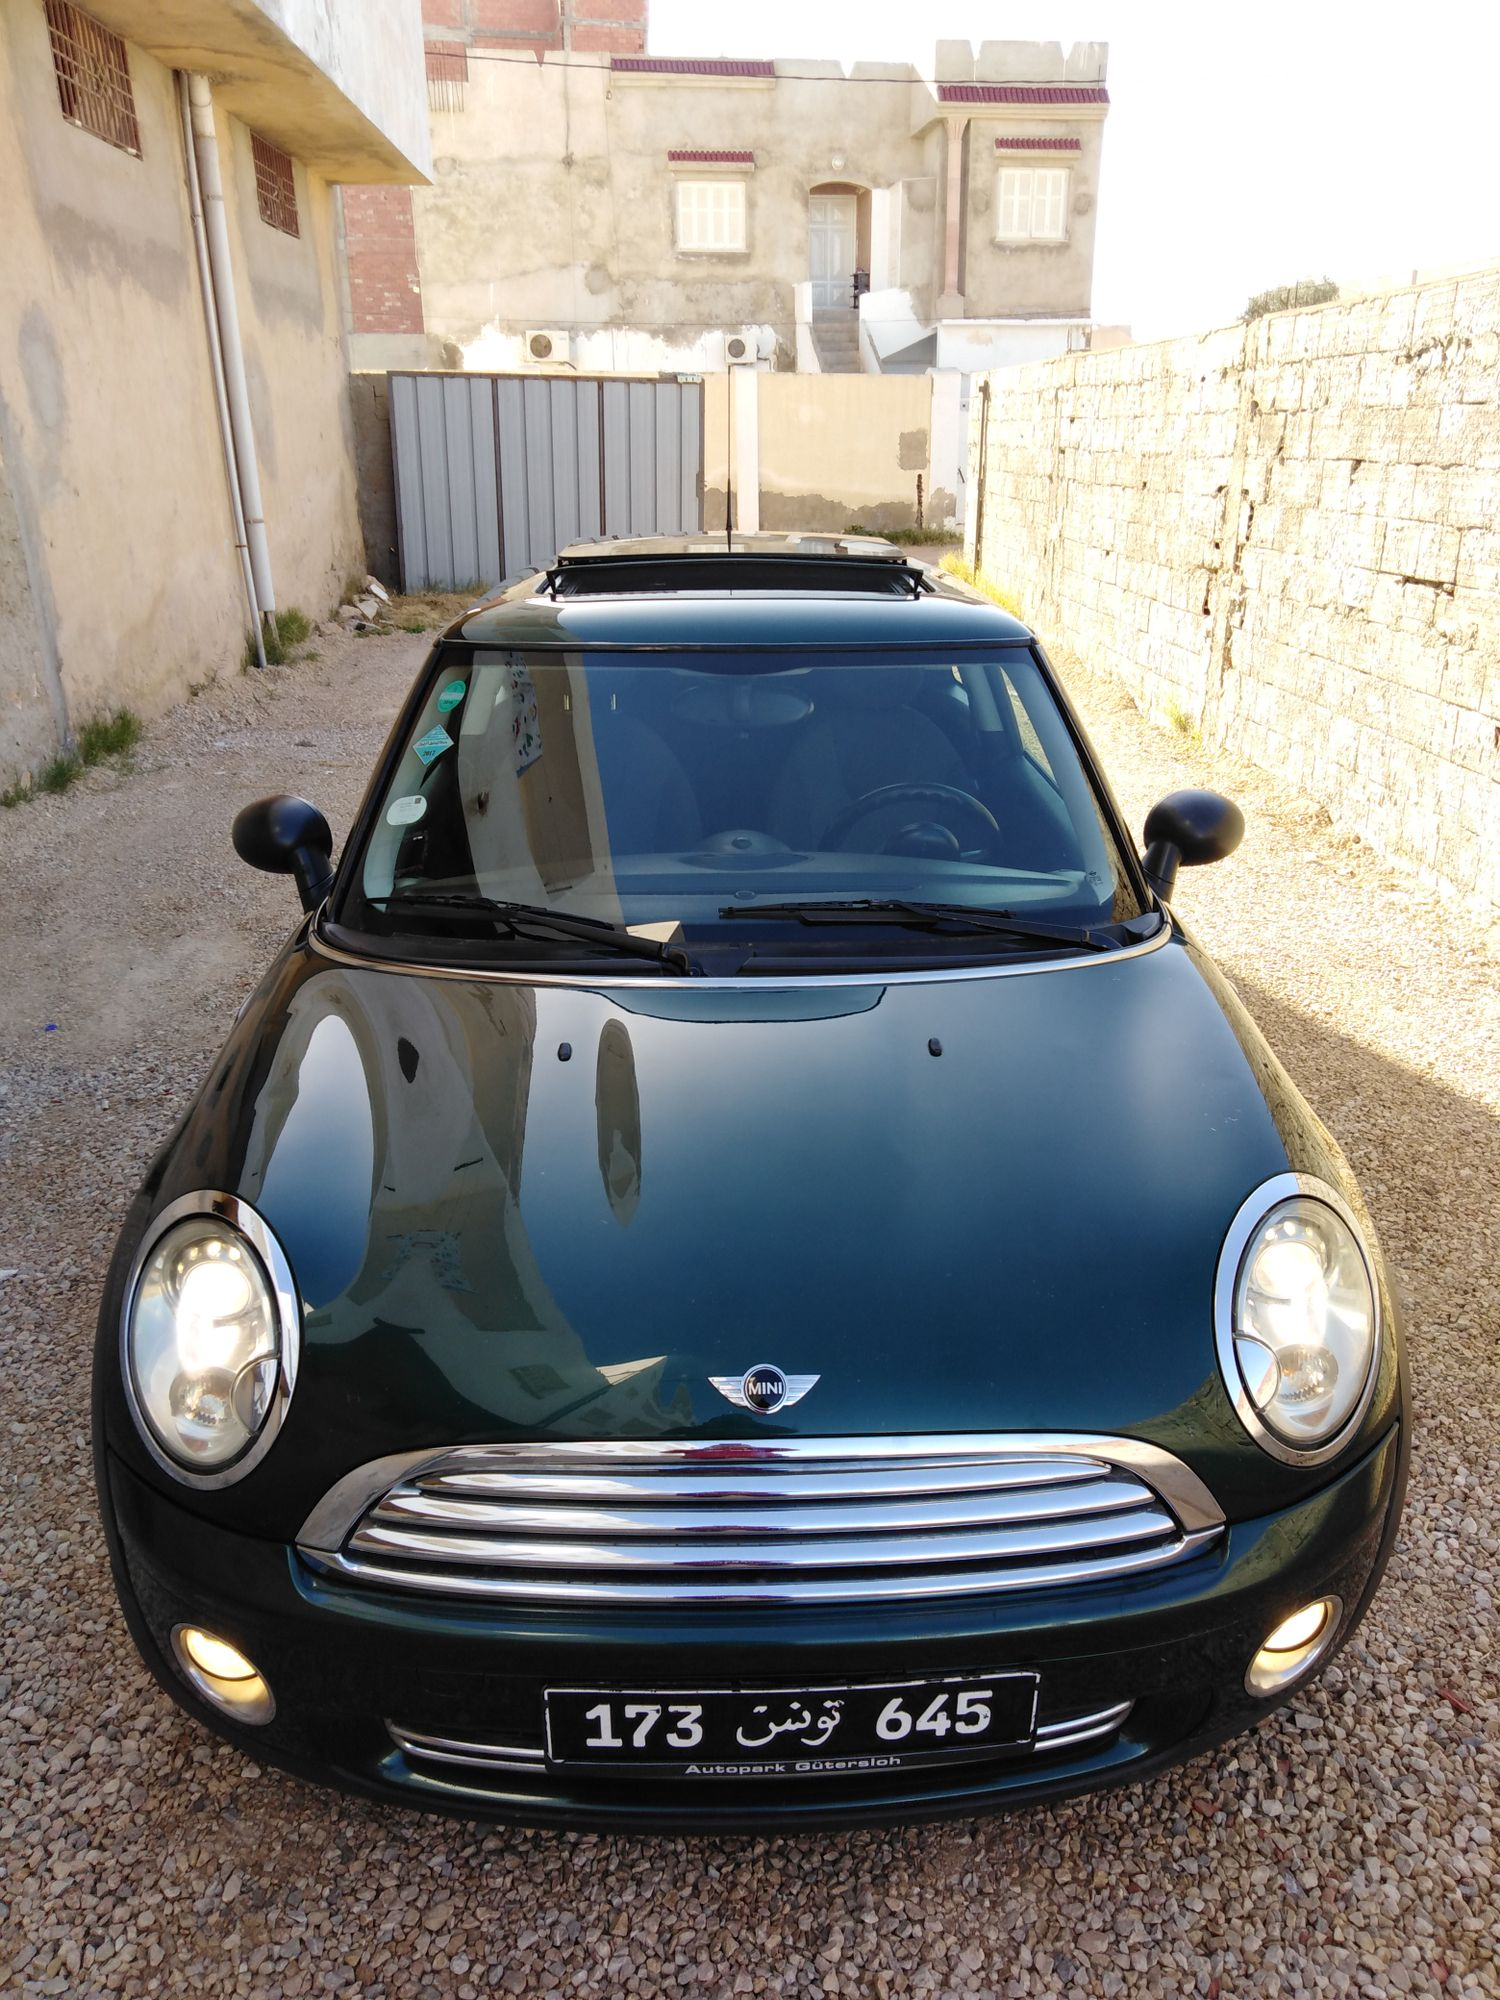LP: (549, 1685, 1029, 1757)
